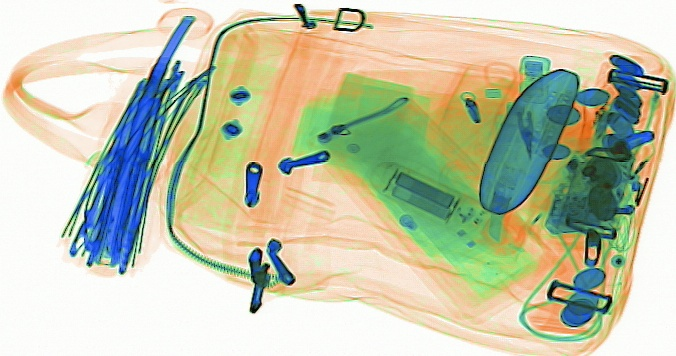scissors: (500, 74, 547, 161)
